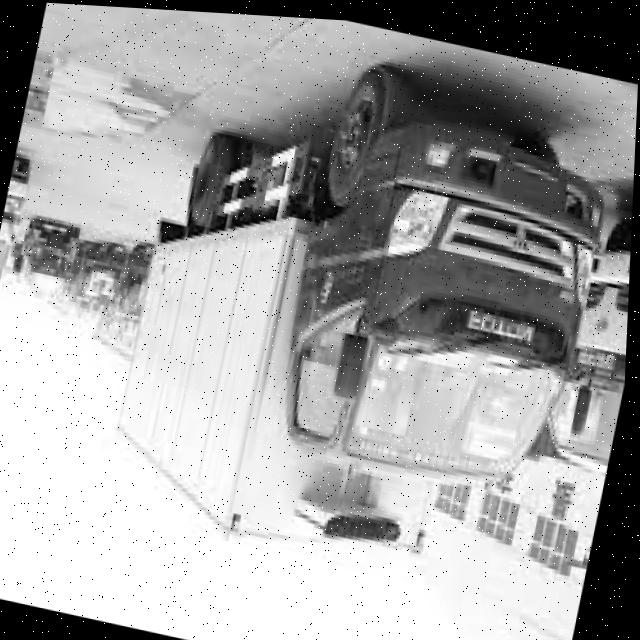truck: (238, 29, 640, 545), (540, 195, 635, 488)
